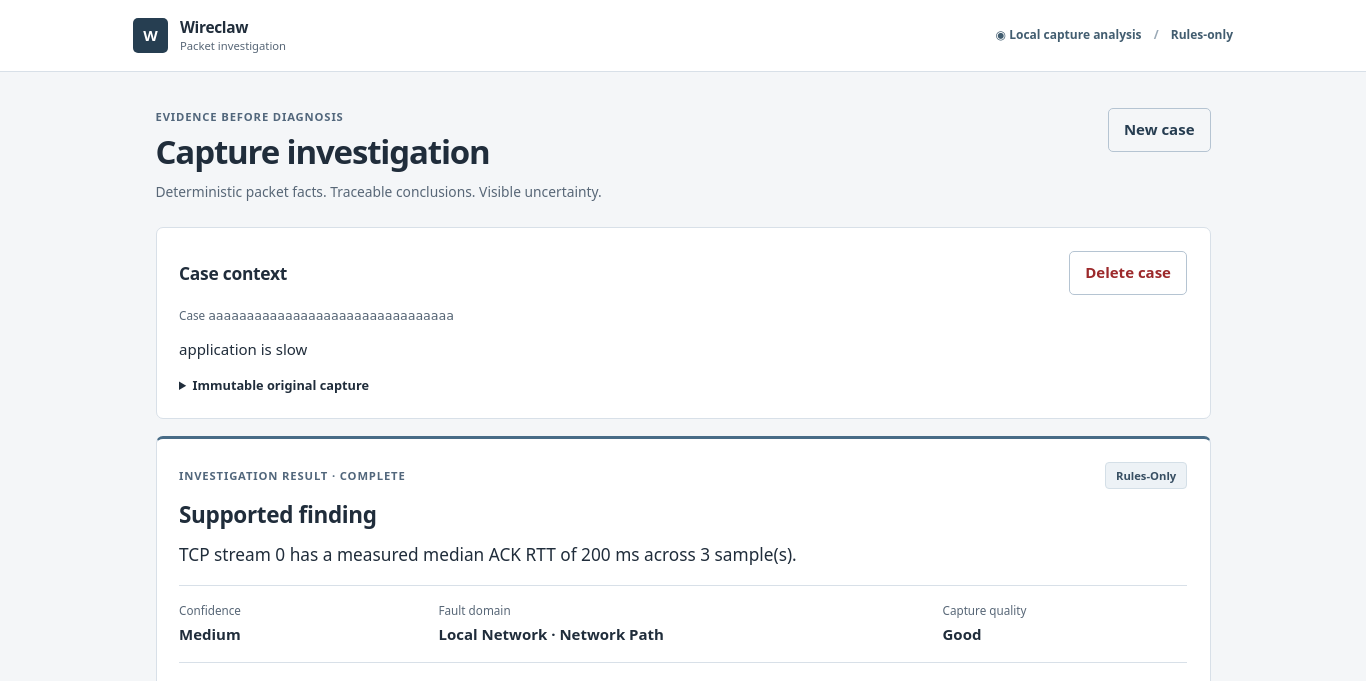
Test: deliberate deletion › requires confirmation and accurately reports successful file removal
The width and height of the screenshot is (1366, 681).
Expected: the heading "Supported finding" is shown, x1=179 y1=499 x2=377 y2=530
Click the button "Delete case".
click(1128, 273)  # box x1=1069 y1=251 x2=1187 y2=296
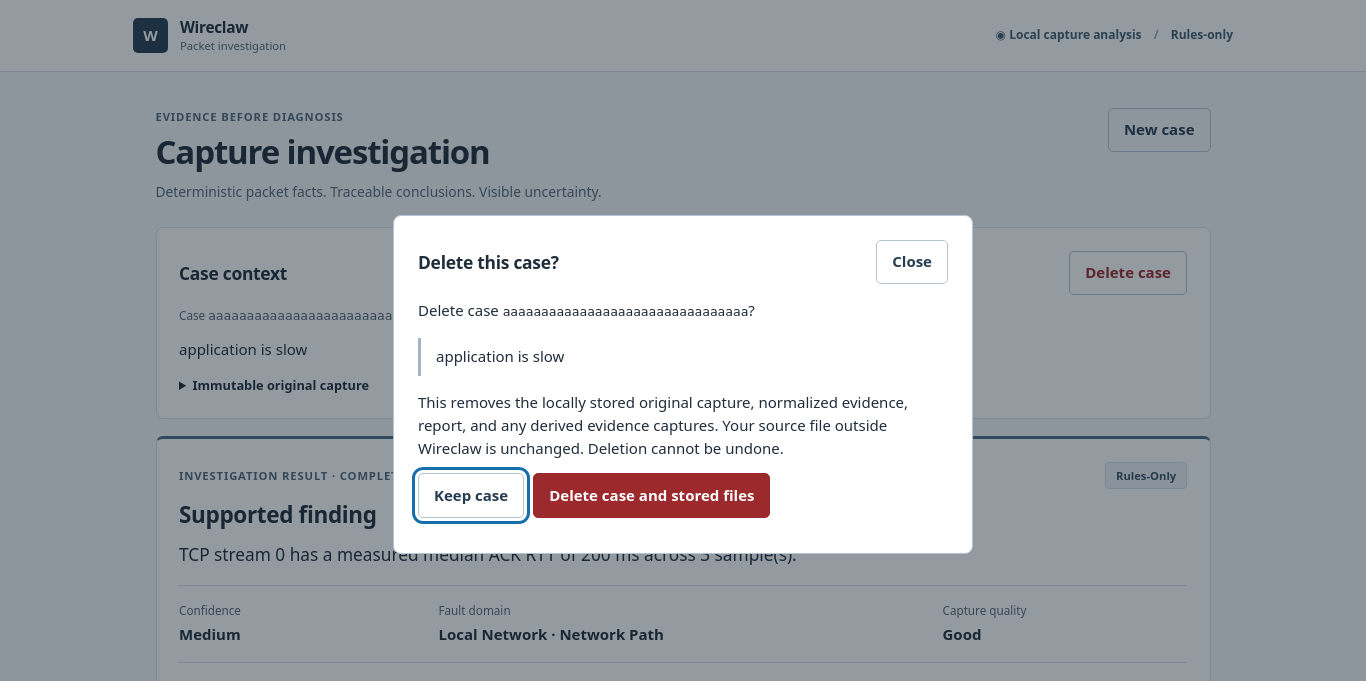
Expected: the dialog "Delete this case?" shows "aaaaaaaaaaaaaaaaaaaaaaaaaaaaaaaa", x1=503 y1=304 x2=748 y2=319
Click the button "Keep case".
click(471, 496)  # box x1=418 y1=473 x2=524 y2=518
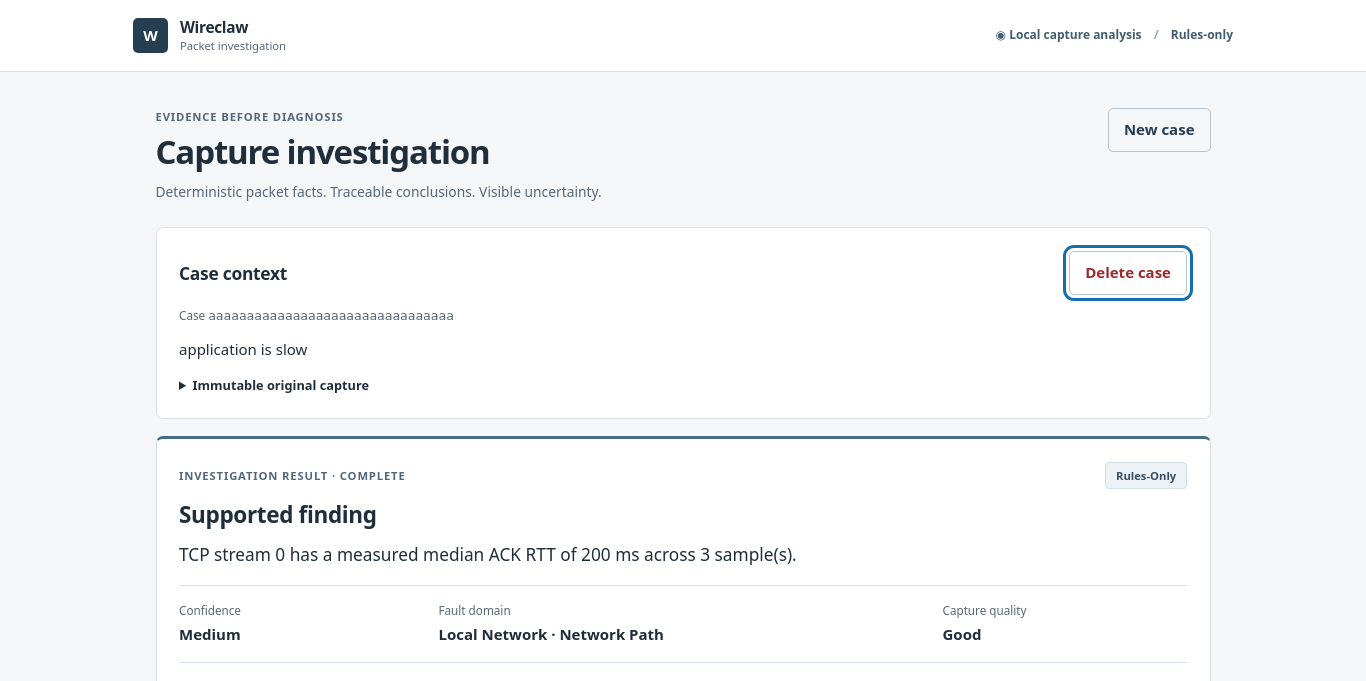
Click the button "Delete case".
click(1128, 273)  # box x1=1069 y1=251 x2=1187 y2=296
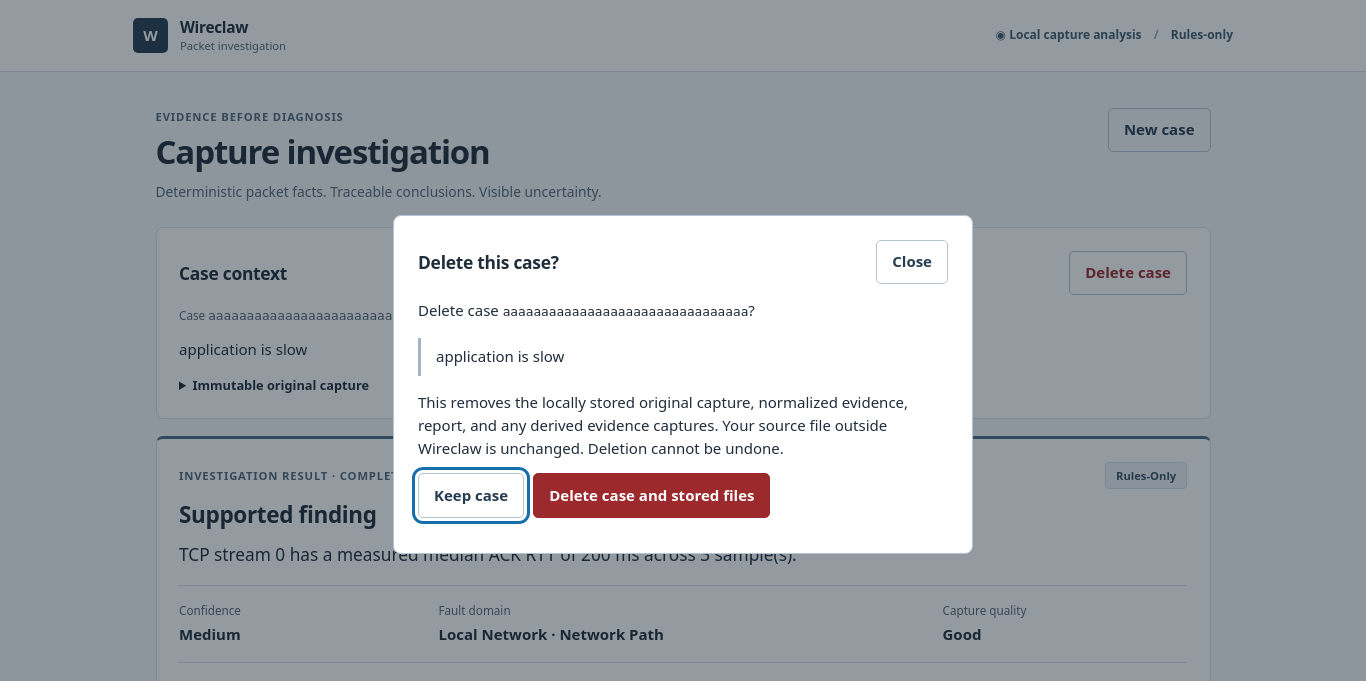
Click the button "Delete case and stored files".
click(652, 496)  # box x1=533 y1=473 x2=770 y2=518
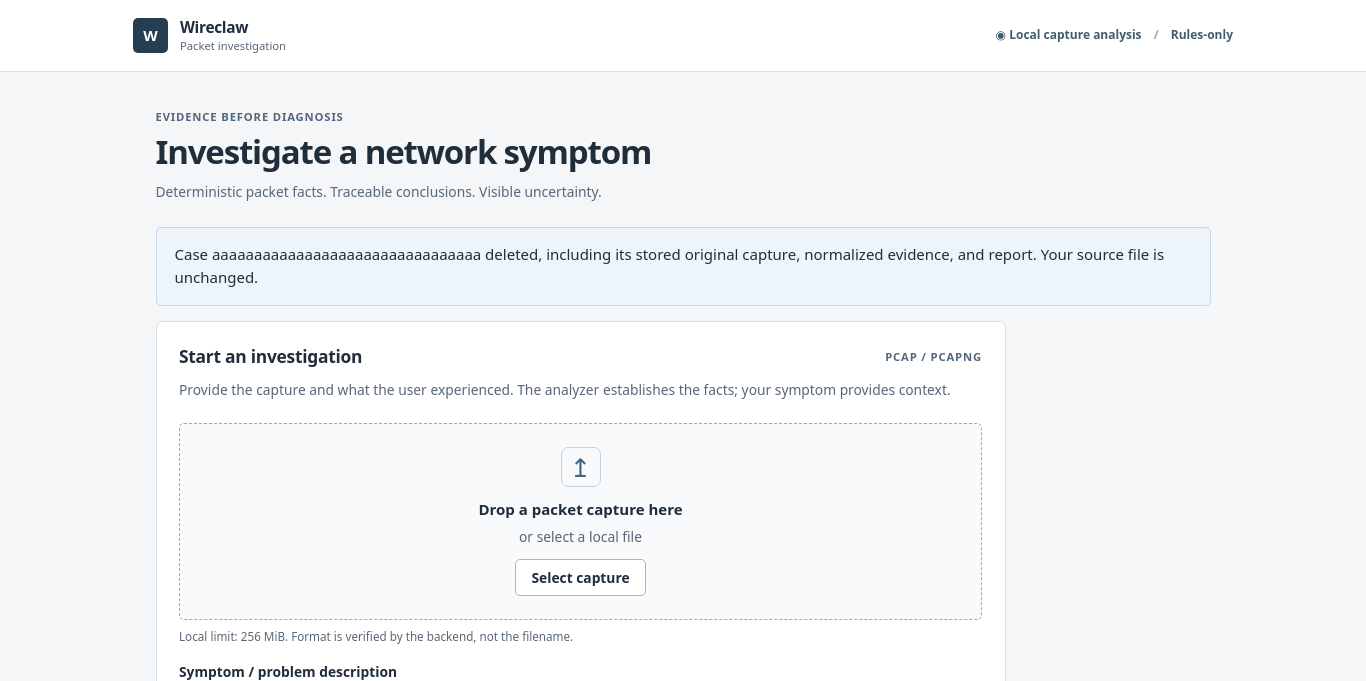
Expected: the text "deleted, including its stored original" is shown, x1=174 y1=244 x2=1164 y2=288
Expected: the heading "Supported finding" is gone
